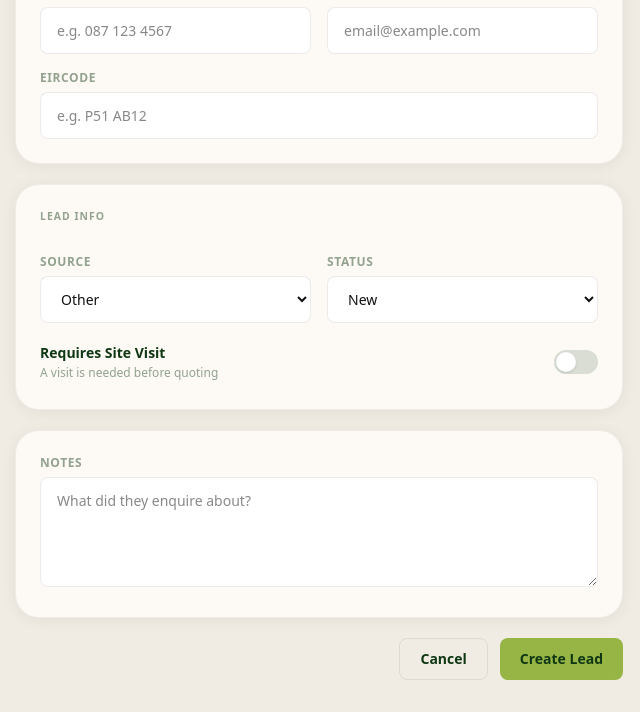
Test: LeadForm — Add mode › requires name — shows error
The width and height of the screenshot is (640, 712).
(page scrolled)
Click the button "Create Lead": (561, 659) x1=500 y1=638 x2=623 y2=680
(page scrolled)
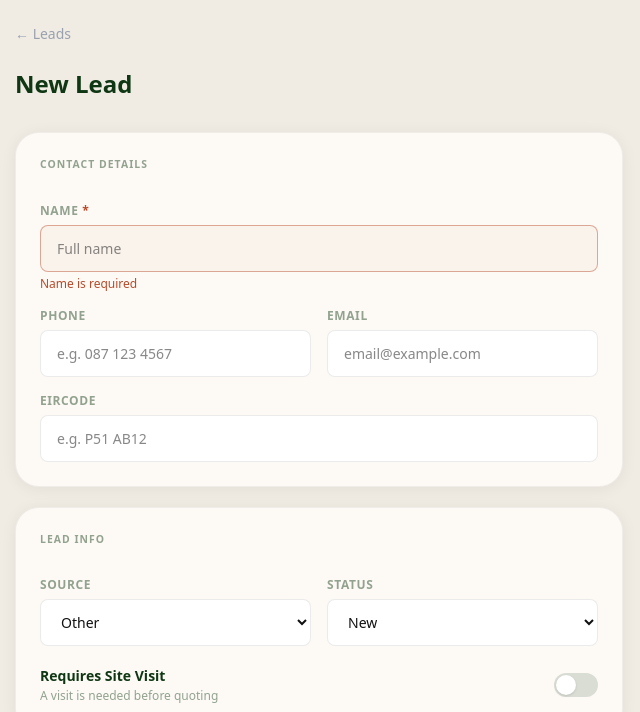
Now the text "Name is required" is shown, box x1=40 y1=275 x2=137 y2=292
